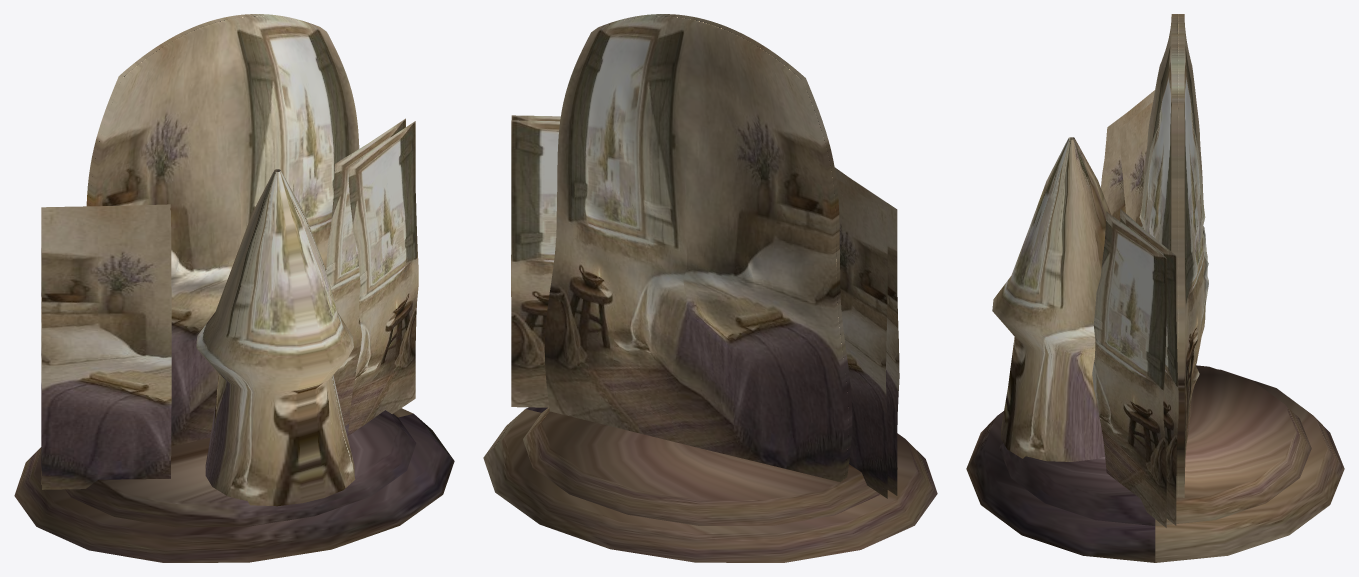
The model's file is held-together-32.glb.
3 renders of one model, left to right at view 1: azimuth 30°, elevation 25°; view 2: azimuth 150°, elevation 25°; view 3: azimuth 270°, elevation 25°, orthographic. The views are drawn at different scales.
Parts seen in each view (by area): view 1: PaintingSculptureMonument; view 2: PaintingSculptureMonument; view 3: PaintingSculptureMonument.
Part boxes in pixels (left/top/right/bottom): PaintingSculptureMonument: left=14, top=14, right=454, bottom=562; PaintingSculptureMonument: left=483, top=14, right=937, bottom=562; PaintingSculptureMonument: left=966, top=14, right=1344, bottom=562.
Size of the model in its own units: 2.76 by 2.99 by 2.35.
1 material, 1 textured.
